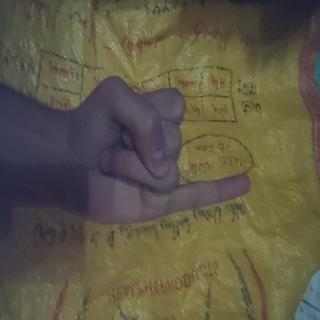MEEM: (54, 86, 171, 320)
